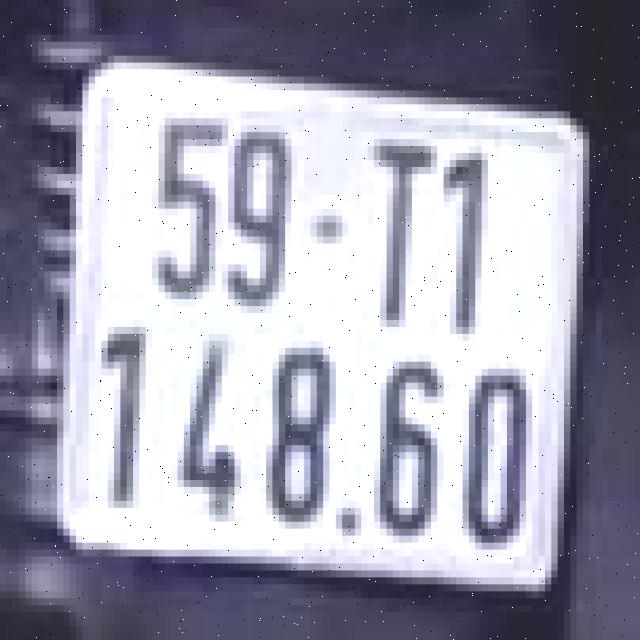0: (453, 355, 536, 563)
1: (92, 306, 149, 522), (437, 139, 488, 348)
4: (165, 324, 247, 539)
5: (149, 104, 225, 299)
6: (368, 354, 443, 542)
8: (257, 338, 339, 532)
9: (219, 122, 301, 310)
T: (364, 129, 434, 337)
